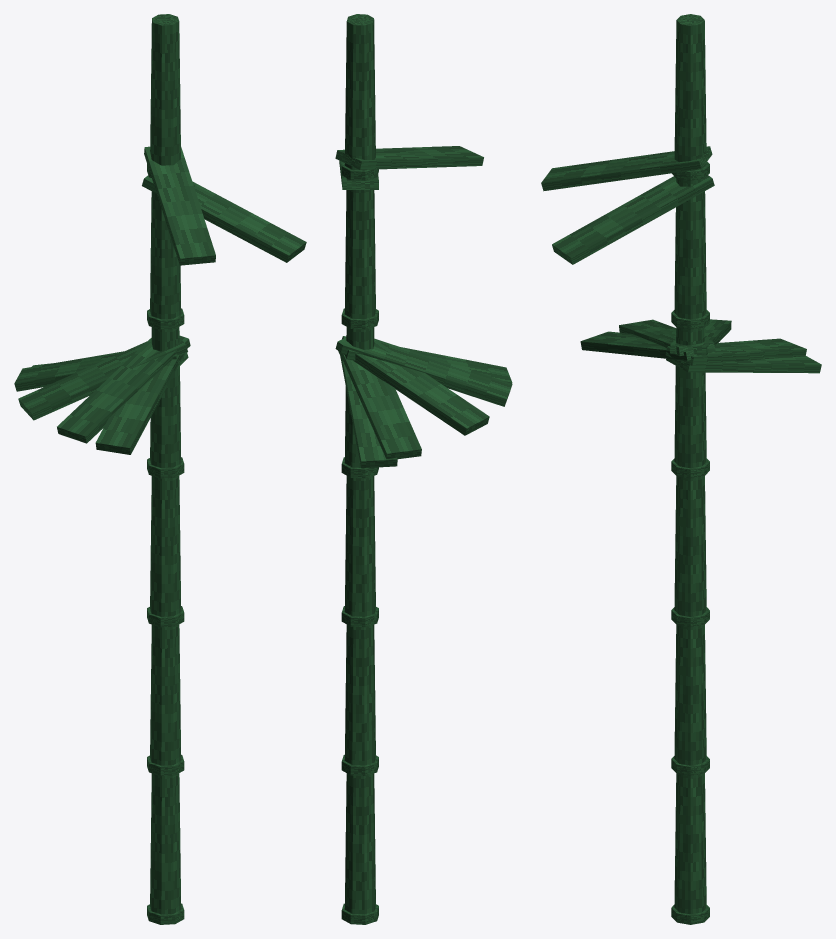
The model's file is bamboo_09.glb.
3 renders of one model, left to right at view 1: azimuth 30°, elevation 25°; view 2: azimuth 150°, elevation 25°; view 3: azimuth 270°, elevation 25°, orthographic.
Visible parts, largest first — view 1: Stem.005, Leaf, Stem.001, Stem, Stem.002, Leaf.003, Leaf.001, Leaf.002, Leaf.005, Stem.003, Stem.004, Leaf.006; view 2: Stem.005, Stem.001, Stem, Stem.002, Stem.004, Leaf.002, Leaf.006, Leaf.003, Leaf, Leaf.004, Stem.003, Leaf.005 (+7 smaller); view 3: Stem.005, Leaf.001, Stem.002, Stem.001, Stem, Stem.004, Stem.003, Leaf, Leaf.006, Leaf.004, Leaf.005, Leaf.003 (+1 smaller).
Part boxes in pixels (x1=…): Stem.005: x1=150, y1=14, x2=180, y2=165; Leaf: x1=144, y1=146, x2=215, y2=265; Stem.001: x1=150, y1=624, x2=181, y2=765; Stem: x1=150, y1=773, x2=181, y2=914; Stem.002: x1=150, y1=476, x2=181, y2=616; Leaf.003: x1=57, y1=335, x2=190, y2=443; Leaf.001: x1=142, y1=175, x2=306, y2=262; Leaf.002: x1=18, y1=338, x2=187, y2=420; Leaf.005: x1=95, y1=353, x2=184, y2=454; Stem.003: x1=150, y1=327, x2=181, y2=467; Stem.004: x1=150, y1=191, x2=181, y2=319; Leaf.006: x1=14, y1=351, x2=179, y2=391; Stem.005: x1=344, y1=14, x2=375, y2=170; Stem.001: x1=344, y1=624, x2=375, y2=765; Stem: x1=344, y1=773, x2=375, y2=914; Stem.002: x1=344, y1=476, x2=375, y2=616; Stem.004: x1=344, y1=178, x2=375, y2=319; Leaf.002: x1=335, y1=337, x2=489, y2=435; Leaf.006: x1=338, y1=351, x2=421, y2=459; Leaf.003: x1=341, y1=337, x2=512, y2=406; Leaf: x1=335, y1=146, x2=483, y2=169; Leaf.004: x1=340, y1=356, x2=397, y2=468; Stem.003: x1=344, y1=327, x2=374, y2=467; Leaf.005: x1=342, y1=336, x2=512, y2=383; Stem.005: x1=674, y1=14, x2=706, y2=170; Leaf.001: x1=552, y1=175, x2=714, y2=264; Stem.002: x1=674, y1=476, x2=706, y2=616; Stem.001: x1=674, y1=625, x2=706, y2=765; Stem: x1=674, y1=773, x2=706, y2=914; Stem.004: x1=674, y1=179, x2=706, y2=319; Stem.003: x1=674, y1=327, x2=706, y2=468; Leaf: x1=541, y1=146, x2=712, y2=191; Leaf.006: x1=665, y1=338, x2=806, y2=365; Leaf.004: x1=666, y1=356, x2=821, y2=373; Leaf.005: x1=580, y1=331, x2=715, y2=360; Leaf.003: x1=619, y1=319, x2=713, y2=355.
Size of the model in its own units: 1.21 by 4.88 by 1.38.
1 material, 1 textured.
